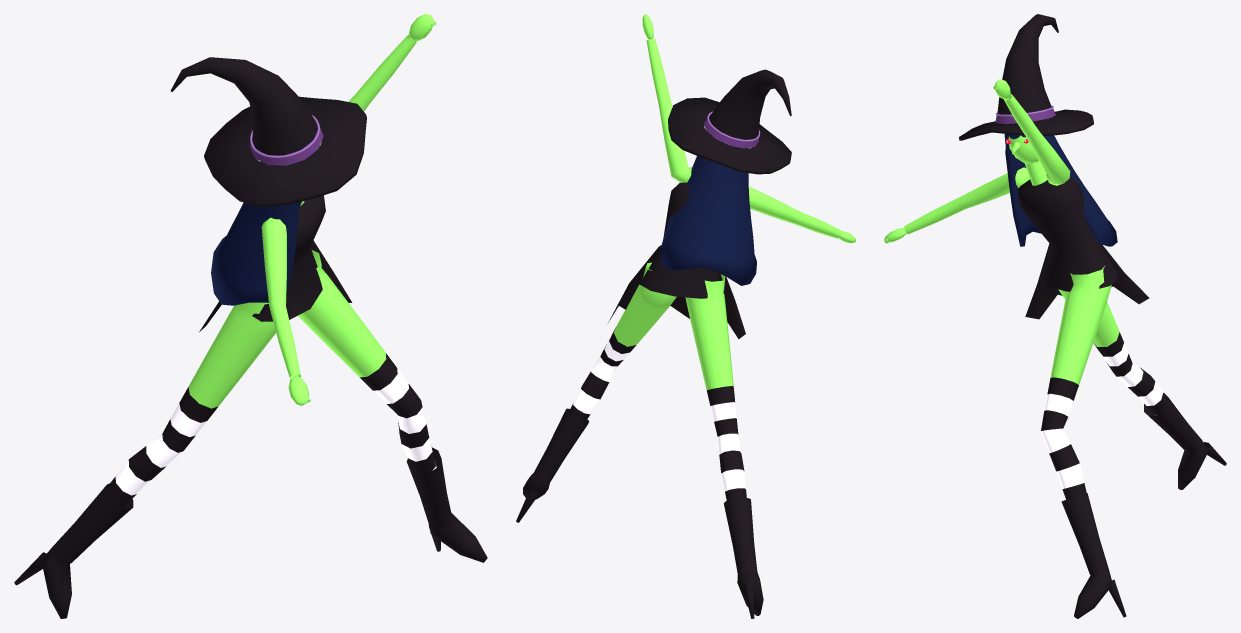
The model's file is witch_solo_c.glb.
The picture shows the model from 3 angles, left to right: view 1: azimuth 30°, elevation 25°; view 2: azimuth 150°, elevation 25°; view 3: azimuth 270°, elevation 25°; orthographic projection. The views are drawn at different scales.
Visible parts, largest first — view 1: HWG_Witch_solo_c; view 2: HWG_Witch_solo_c; view 3: HWG_Witch_solo_c.
Part boxes in pixels (x1,y1,x2,y2): HWG_Witch_solo_c: [14, 14, 487, 618]; HWG_Witch_solo_c: [516, 14, 855, 618]; HWG_Witch_solo_c: [884, 14, 1226, 618].
Bounding box in the file's own units: 0.8012 × 1.25 × 0.7587.
